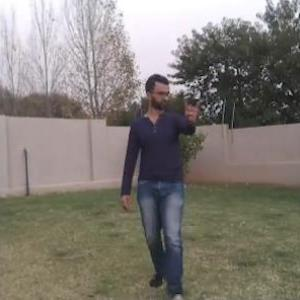takeoff-hand: (181, 90, 208, 128)
